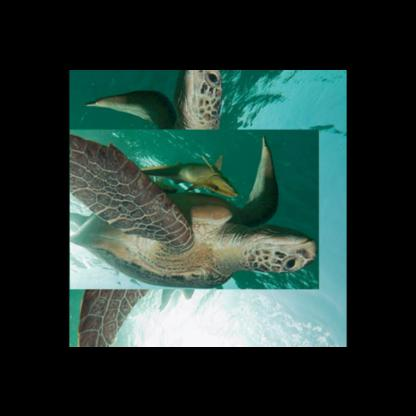turtle: (70, 88, 278, 328)
